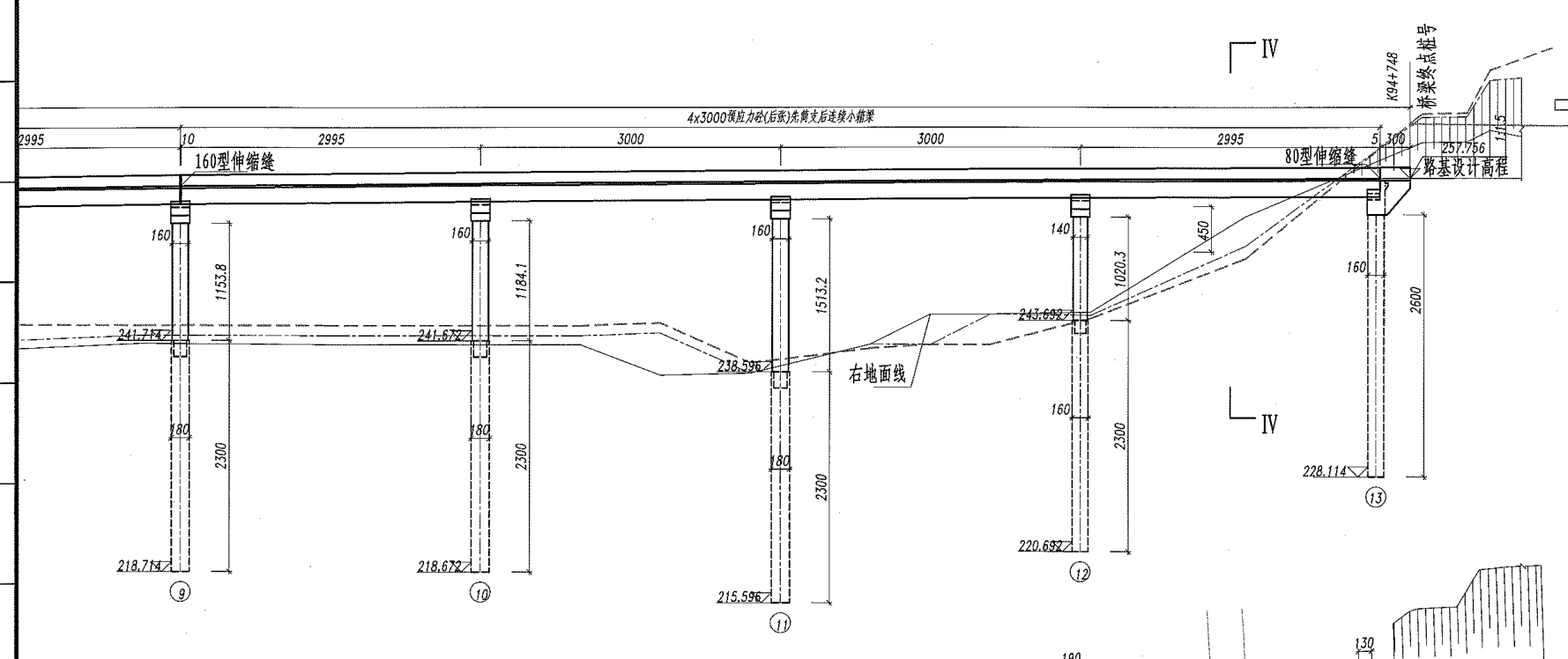A: (20, 88, 1417, 113)
B: (174, 106, 1387, 130)
C: (79, 195, 223, 616), (691, 187, 813, 640), (394, 193, 510, 617), (1005, 189, 1105, 589), (1288, 186, 1401, 515)
